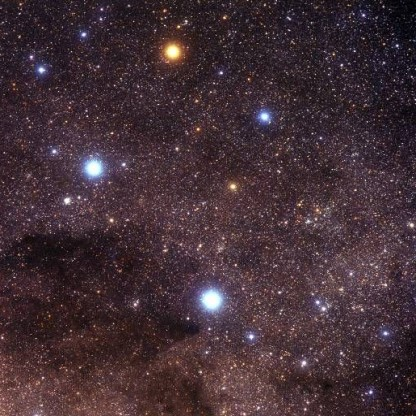Southern Cross: (191, 283, 229, 318), (77, 155, 112, 190), (154, 32, 188, 67), (250, 105, 274, 131)
